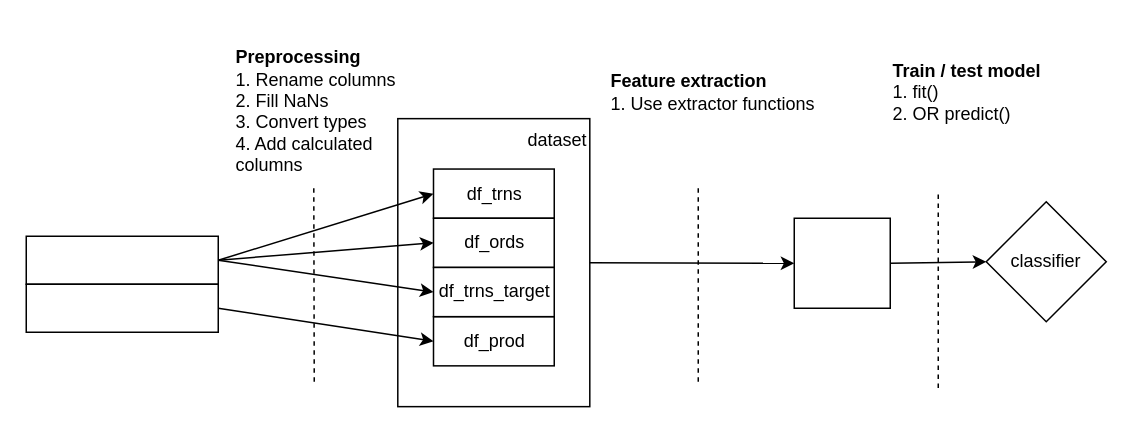
Some shapes in this 1133 by 434 pixel diagram are drawn without their labels. Here are the shapes that lost their labels. From the top down, the centre of each, then its label:
At (x=121, y=259): "transactions.csv".
At (x=841, y=262): "feature matrix".
At (x=121, y=307): "products.csv".
